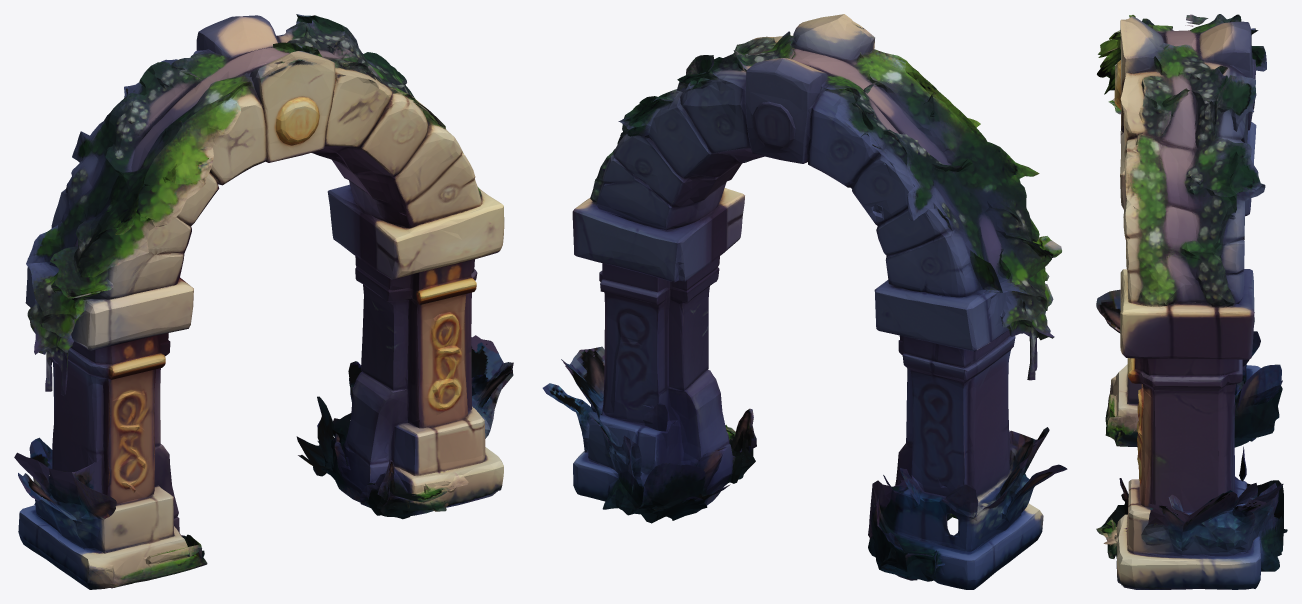
The model's file is entryarch.glb.
The picture shows the model from 3 angles, left to right: view 1: azimuth 30°, elevation 25°; view 2: azimuth 150°, elevation 25°; view 3: azimuth 270°, elevation 25°; orthographic projection. The views are drawn at different scales.
Visible parts, largest first — view 1: world; view 2: world; view 3: world.
Boxes of the visible parts, bbox=[...] form: world: bbox=[14, 14, 513, 589]; world: bbox=[542, 14, 1067, 589]; world: bbox=[1096, 14, 1287, 589].
Bounding box in the file's own units: 0.9999 × 0.9597 × 0.3478.
Materials: 1 (1 with a texture image).
